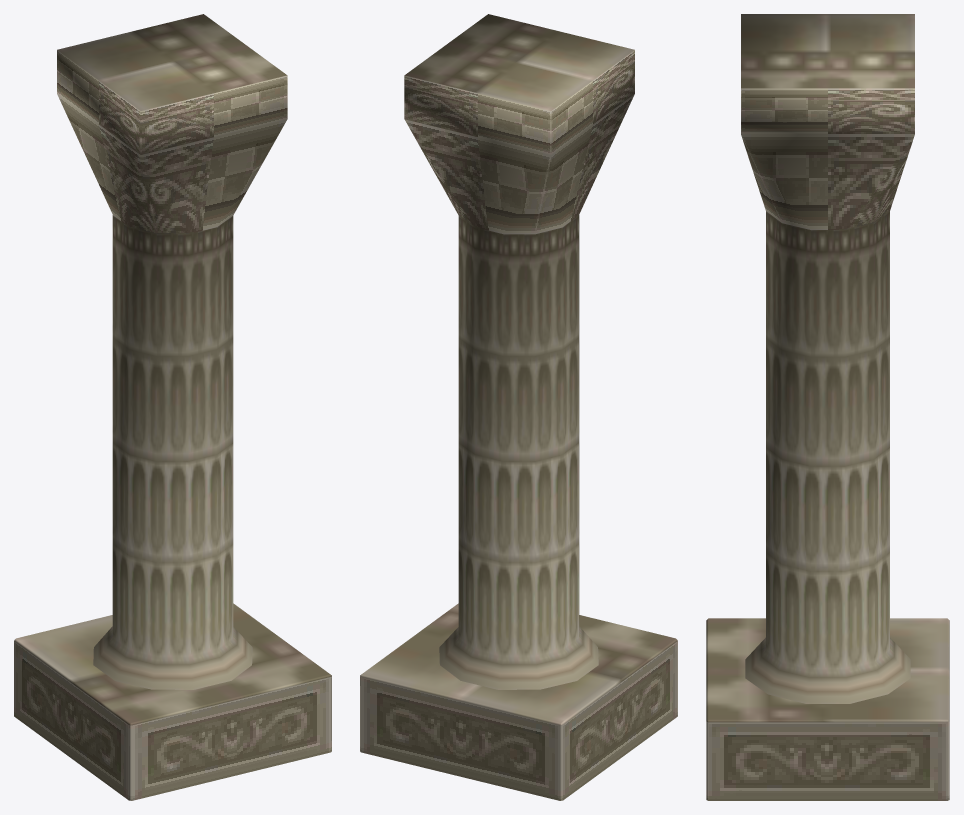
Rendered from int_oth_piller_c.dae.
The picture shows the model from 3 angles, left to right: view 1: azimuth 30°, elevation 25°; view 2: azimuth 150°, elevation 25°; view 3: azimuth 270°, elevation 25°; orthographic projection. The views are drawn at different scales.
Parts seen in each view (by area): view 1: int_oth_piller_c; view 2: int_oth_piller_c; view 3: int_oth_piller_c.
Part boxes in pixels (x1,y1,x2,y2): int_oth_piller_c: [14, 14, 331, 800]; int_oth_piller_c: [360, 14, 677, 800]; int_oth_piller_c: [706, 14, 949, 800].
Bounding box in the file's own units: 27.1 × 85.7 × 27.1.
Materials: 2 (2 with a texture image).
